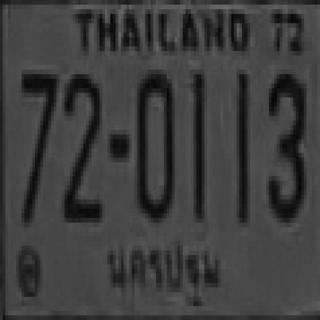N00: (134, 70, 172, 218)
N01: (234, 72, 248, 220), (192, 70, 203, 218)
N02: (62, 70, 100, 218)
N03: (266, 70, 304, 218)
N07: (19, 70, 57, 222), (19, 70, 57, 195)
P28: (102, 236, 228, 310)
